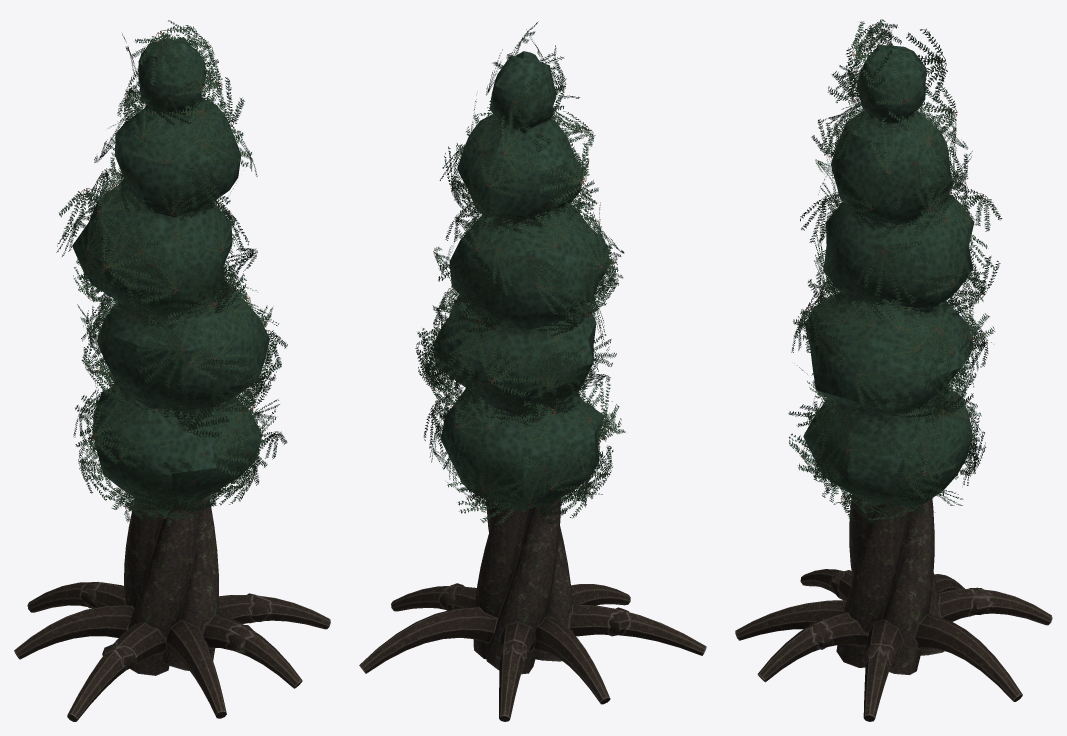
File: YewTree.fbx
3 renders of one model, left to right at view 1: azimuth 30°, elevation 25°; view 2: azimuth 150°, elevation 25°; view 3: azimuth 270°, elevation 25°, orthographic. The views are drawn at different scales.
Visible parts, largest first — view 1: YewTree_Main, YewTree_Leaves; view 2: YewTree_Main, YewTree_Leaves; view 3: YewTree_Main, YewTree_Leaves.
Boxes of the visible parts, box(x1,y1,x2,y2) form: YewTree_Main: box(14, 37, 330, 721); YewTree_Leaves: box(56, 20, 287, 526); YewTree_Main: box(359, 51, 706, 721); YewTree_Leaves: box(415, 21, 625, 524); YewTree_Main: box(735, 44, 1052, 721); YewTree_Leaves: box(788, 19, 1002, 525).
Bounding box in the file's own units: 618 × 1306 × 588.
